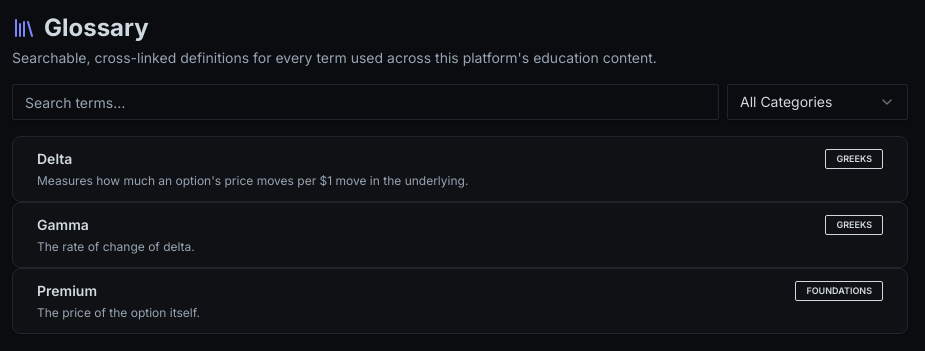
Scenario: Glossary › filters terms by a free-text search query
The image size is (925, 351).
Type "premium" into the field with test id "input-glossary-search" at (366, 102), box [12,84,719,120]
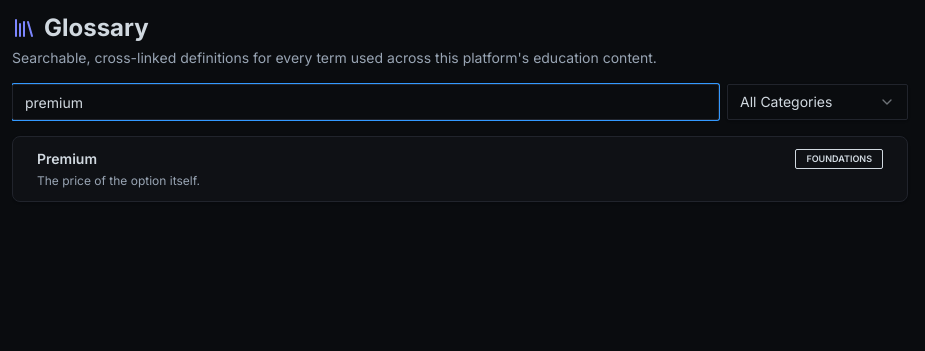
Expected: the link with test id "link-glossary-term-premium" is shown, [12,136,908,202]
Result: the link with test id "link-glossary-term-delta" is gone
